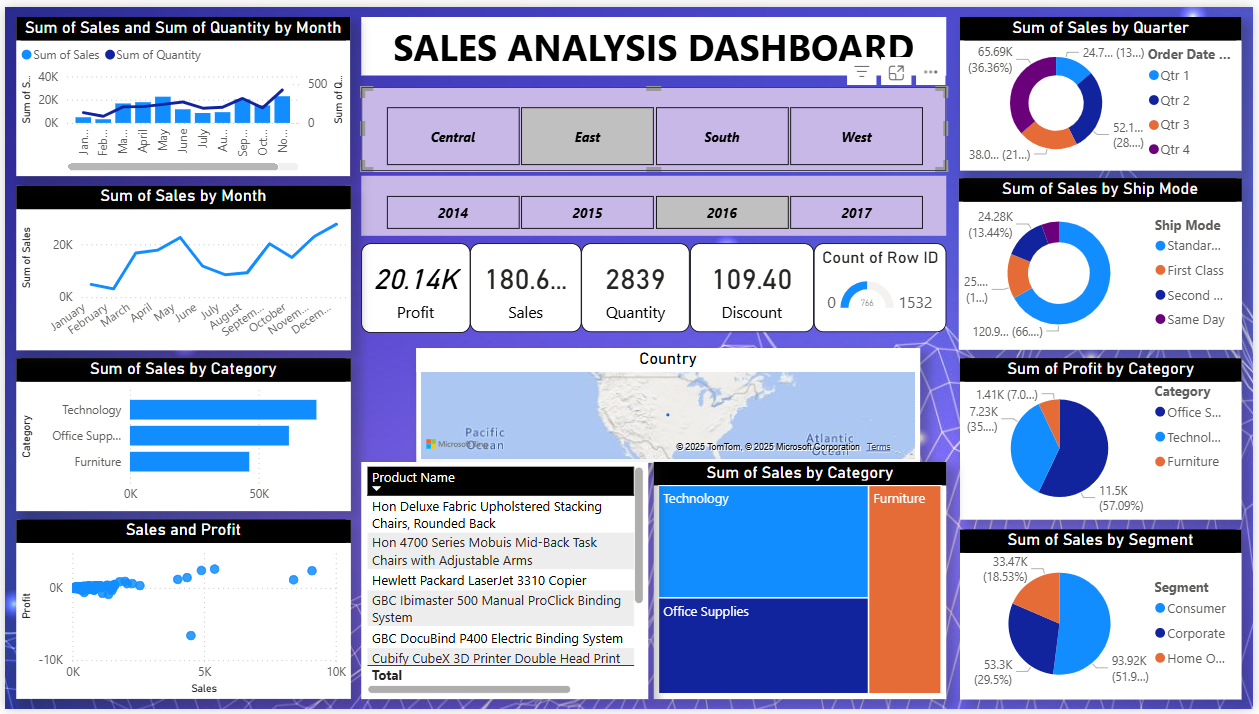

Layout of this report page (visuals, bound fields, positions):
{"tool":"powerbi","page":{"name":"Page 1","canvas":[1280,720],"ordinal":0},"visuals":[{"type":"slicer","fields":{"Values":["sample_-_superstore xls - Order.Region"]},"box":[365.7,81.4,600,87.1],"z":0},{"type":"textbox","box":[365.4,10.3,600,60.3],"z":1000},{"type":"card","fields":{"Values":["Sum(sample_-_superstore xls - Order.Profit)"]},"box":[365.6,242.9,111.7,92],"z":2000},{"type":"card","fields":{"Values":["Sum(sample_-_superstore xls - Order.Sales)"]},"box":[477.1,242.9,114.3,91.4],"z":3000},{"type":"card","fields":{"Values":["Sum(sample_-_superstore xls - Order.Quantity)"]},"box":[591.4,242.9,111.4,91.4],"z":4000},{"type":"card","fields":{"Values":["Sum(sample_-_superstore xls - Order.Discount)"]},"box":[702.9,242.9,127.1,91.4],"z":5000},{"type":"gauge","fields":{"Y":["CountNonNull(sample_-_superstore xls - Order.Row ID)"]},"box":[830,242.9,135.7,91.4],"z":6000},{"type":"slicer","fields":{"Values":["sample_-_superstore xls - Order.Order Date.Variation.Date Hierarchy.Year"]},"box":[365.7,172.9,600,61.4],"z":7000},{"type":"barChart","fields":{"Category":["sample_-_superstore xls - Order.Category"],"Y":["Sum(sample_-_superstore xls - Order.Sales)"]},"box":[11.4,360,342.9,157.1],"z":8000},{"type":"lineChart","fields":{"Y":["Sum(sample_-_superstore xls - Order.Sales)"],"Category":["sample_-_superstore xls - Order.Order Date.Variation.Date Hierarchy.Month"]},"box":[11.4,182.9,342.9,168.6],"z":9000},{"type":"scatterChart","fields":{"X":["sample_-_superstore xls - Order.Sales"],"Y":["sample_-_superstore xls - Order.Profit"]},"box":[11.4,525.7,342.9,184.3],"z":10000},{"type":"pieChart","fields":{"Category":["sample_-_superstore xls - Order.Category"],"Y":["Sum(sample_-_superstore xls - Order.Profit)"]},"box":[980,360,288.6,165.7],"z":11000},{"type":"map","fields":{"Category":["sample_-_superstore xls - Order.Country"]},"box":[422.1,349.7,516.6,117.8],"z":12000},{"type":"treemap","fields":{"Values":["Sum(sample_-_superstore xls - Order.Sales)"],"Group":["sample_-_superstore xls - Order.Category"]},"box":[665.7,467.1,300,242.9],"z":13000},{"type":"lineClusteredColumnComboChart","fields":{"Category":["sample_-_superstore xls - Order.Order Date.Variation.Date Hierarchy.Month"],"Y":["Sum(sample_-_superstore xls - Order.Sales)"],"Y2":["Sum(sample_-_superstore xls - Order.Quantity)"]},"box":[11.5,10.3,342.3,162.8],"z":14000},{"type":"tableEx","fields":{"Values":["sample_-_superstore xls - Order.Product Name","Sum(sample_-_superstore xls - Order.Sales)"]},"box":[365.7,467.1,294.3,242.9],"z":15000},{"type":"donutChart","fields":{"Category":["sample_-_superstore xls - Order.Ship Mode"],"Y":["Sum(sample_-_superstore xls - Order.Sales)"]},"box":[978.6,175.7,290,175.7],"z":16000},{"type":"pieChart","fields":{"Category":["sample_-_superstore xls - Order.Segment"],"Y":["Sum(sample_-_superstore xls - Order.Sales)"]},"box":[979.5,535.9,288.5,174.4],"z":17000},{"type":"donutChart","fields":{"Category":["sample_-_superstore xls - Order.Order Date.Variation.Date Hierarchy.Quarter"],"Y":["Sum(sample_-_superstore xls - Order.Sales)"]},"box":[979.5,10.3,288.5,157.7],"z":18000}]}

Visuals, with their boxes in screenshot pixels (x1, y1, x2, y2), scaled from the page's 1280x720 canvas onto the 1259x714 screenshot:
slicer - sample_-_superstore xls - Order.Region: <box>360,81,950,167</box>
textbox: <box>359,10,950,70</box>
card - Sum(sample_-_superstore xls - Order.Profit): <box>360,241,469,332</box>
card - Sum(sample_-_superstore xls - Order.Sales): <box>469,241,582,332</box>
card - Sum(sample_-_superstore xls - Order.Quantity): <box>582,241,691,332</box>
card - Sum(sample_-_superstore xls - Order.Discount): <box>691,241,816,332</box>
gauge - CountNonNull(sample_-_superstore xls - Order.Row ID): <box>816,241,950,332</box>
slicer - sample_-_superstore xls - Order.Order Date.Variation.Date Hierarchy.Year: <box>360,171,950,232</box>
barChart - sample_-_superstore xls - Order.Category x Sum(sample_-_superstore xls - Order.Sales): <box>11,357,348,513</box>
lineChart - Sum(sample_-_superstore xls - Order.Sales) x sample_-_superstore xls - Order.Order Date.Variation.Date Hierarchy.Month: <box>11,181,348,349</box>
scatterChart - sample_-_superstore xls - Order.Sales x sample_-_superstore xls - Order.Profit: <box>11,521,348,704</box>
pieChart - sample_-_superstore xls - Order.Category x Sum(sample_-_superstore xls - Order.Profit): <box>964,357,1248,521</box>
map - sample_-_superstore xls - Order.Country: <box>415,347,923,464</box>
treemap - Sum(sample_-_superstore xls - Order.Sales) x sample_-_superstore xls - Order.Category: <box>655,463,950,704</box>
lineClusteredColumnComboChart - sample_-_superstore xls - Order.Order Date.Variation.Date Hierarchy.Month x Sum(sample_-_superstore xls - Order.Sales): <box>11,10,348,172</box>
tableEx - sample_-_superstore xls - Order.Product Name x Sum(sample_-_superstore xls - Order.Sales): <box>360,463,649,704</box>
donutChart - sample_-_superstore xls - Order.Ship Mode x Sum(sample_-_superstore xls - Order.Sales): <box>963,174,1248,348</box>
pieChart - sample_-_superstore xls - Order.Segment x Sum(sample_-_superstore xls - Order.Sales): <box>963,531,1247,704</box>
donutChart - sample_-_superstore xls - Order.Order Date.Variation.Date Hierarchy.Quarter x Sum(sample_-_superstore xls - Order.Sales): <box>963,10,1247,167</box>
